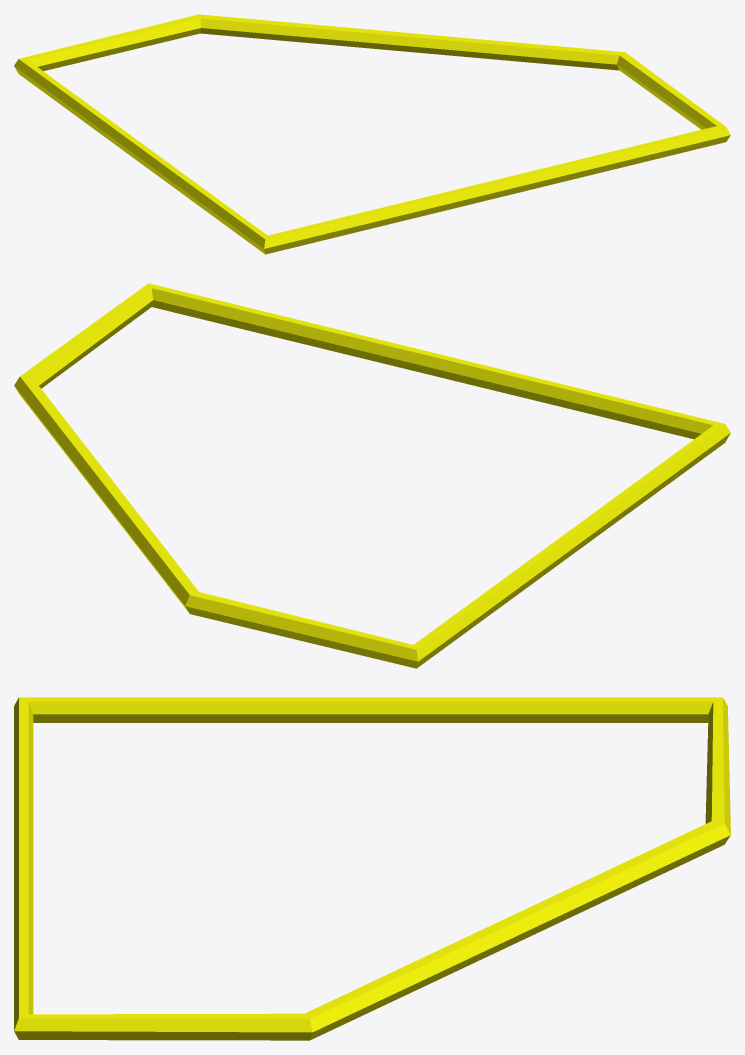
Rendered from Antrieb.obj.
3 views of the same model, one above another, from view 1: azimuth 30°, elevation 25°; view 2: azimuth 150°, elevation 25°; view 3: azimuth 270°, elevation 25° (orthographic). The views are drawn at different scales.
Parts seen in each view (by area): view 1: LQ.002; view 2: LQ.002; view 3: LQ.002.
Boxes of the visible parts, x1=… form: LQ.002: x1=14, y1=14, x2=730, y2=254; LQ.002: x1=14, y1=283, x2=730, y2=668; LQ.002: x1=14, y1=697, x2=730, y2=1040.
Bounding box in the file's own units: 0.7318 × 0.0225 × 0.6796.
